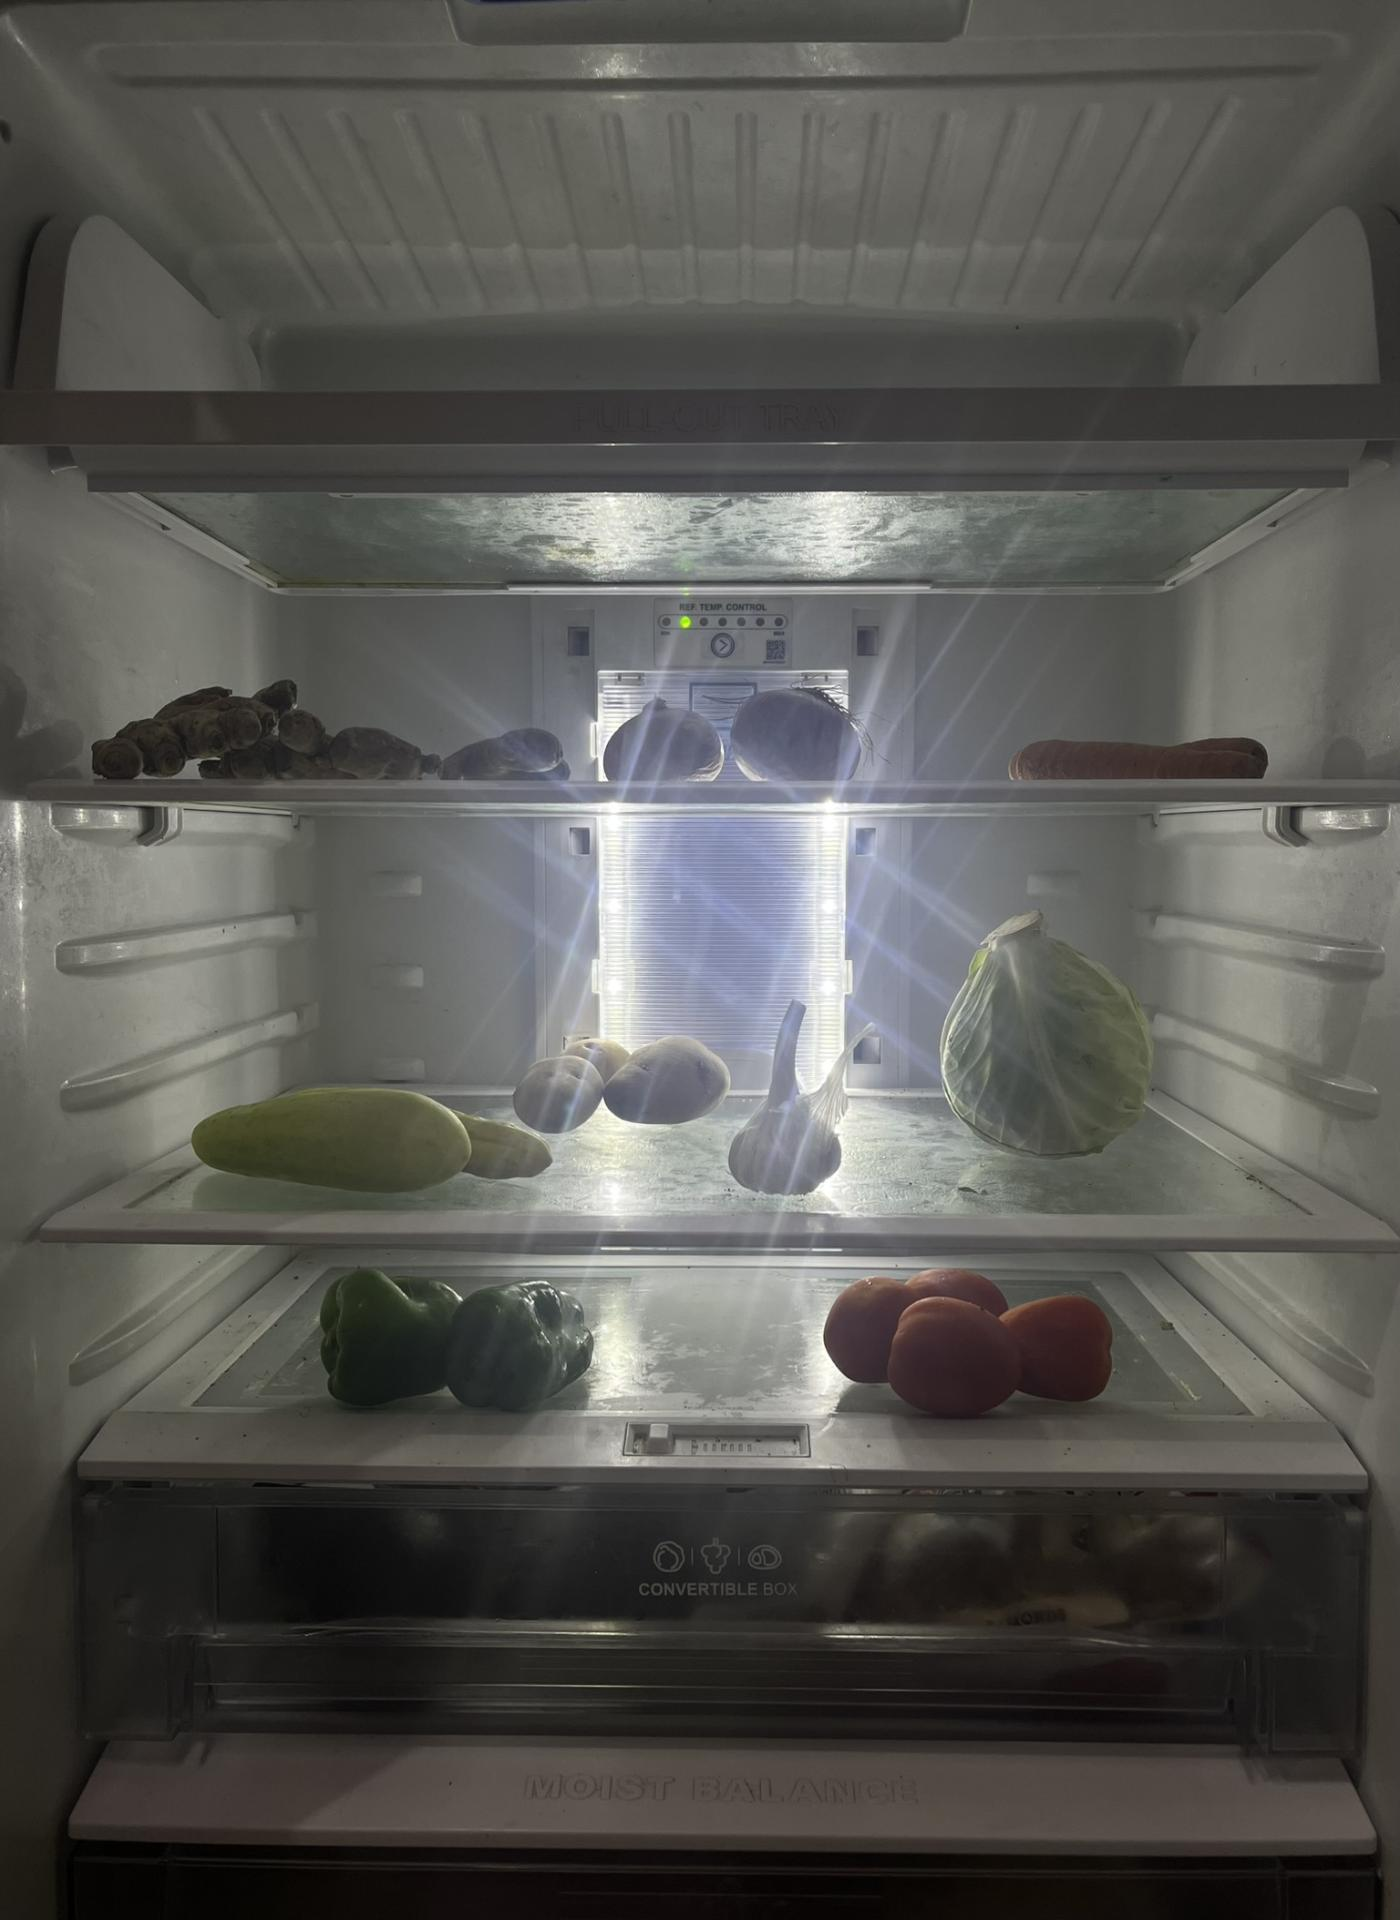cabbage: (941, 909, 1160, 1151)
capsicum: (319, 1264, 602, 1406)
carrots: (999, 733, 1272, 771)
cucumber: (191, 1090, 559, 1197)
garlic: (728, 996, 842, 1188)
ginger: (82, 677, 568, 778)
onion: (613, 683, 872, 789)
potato: (516, 1033, 720, 1130)
tomato: (826, 1260, 1112, 1416)
